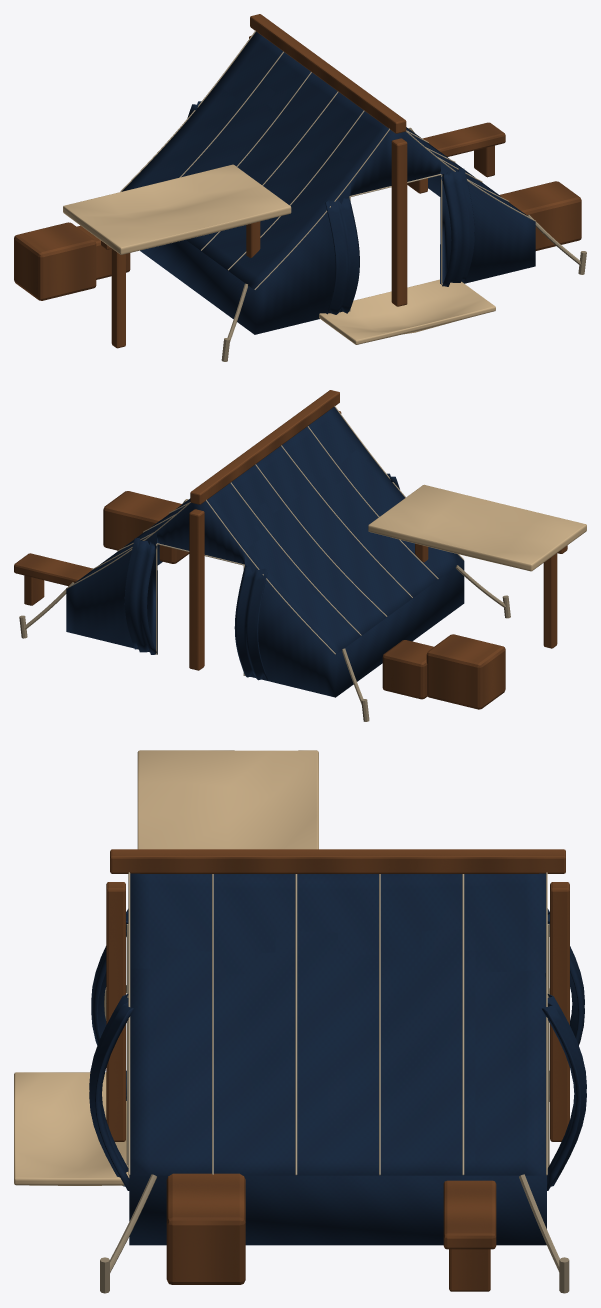
File: CampCloth87.glb
3 views of the same model, one above another, from view 1: azimuth 30°, elevation 25°; view 2: azimuth 150°, elevation 25°; view 3: azimuth 270°, elevation 25° (orthographic). The views are drawn at different scales.
Parts seen in each view (by area): view 1: Camp87 sculpted canvas, Camp87 Camp_Awning, Camp87 Camp_Supplies, Camp87 Camp_Activity, Camp87 Camp_Timber, Camp87 seams and guys; view 2: Camp87 sculpted canvas, Camp87 Camp_Awning, Camp87 Camp_Supplies, Camp87 Camp_Timber, Camp87 seams and guys, Camp87 Camp_Activity; view 3: Camp87 sculpted canvas, Camp87 Camp_Timber, Camp87 Camp_Awning, Camp87 Camp_Activity, Camp87 Camp_Supplies, Camp87 seams and guys.
Part boxes in pixels (x1,y1,x2,y2): Camp87 sculpted canvas: (122, 31, 535, 334); Camp87 Camp_Awning: (63, 164, 291, 348); Camp87 Camp_Supplies: (14, 181, 581, 300); Camp87 Camp_Activity: (319, 122, 505, 344); Camp87 Camp_Timber: (249, 14, 407, 306); Camp87 seams and guys: (120, 30, 586, 361); Camp87 sculpted canvas: (66, 407, 464, 697); Camp87 Camp_Awning: (368, 484, 586, 648); Camp87 Camp_Supplies: (103, 491, 505, 709); Camp87 Camp_Timber: (189, 390, 341, 670); Camp87 seams and guys: (19, 406, 510, 721); Camp87 Camp_Activity: (14, 553, 92, 605); Camp87 sculpted canvas: (89, 873, 586, 1245); Camp87 Camp_Timber: (106, 849, 569, 1141); Camp87 Camp_Awning: (137, 750, 318, 849); Camp87 Camp_Activity: (14, 1072, 496, 1291); Camp87 Camp_Supplies: (166, 1173, 245, 1284); Camp87 seams and guys: (100, 872, 569, 1293).
Size of the model in its own units: 7.92 by 3.12 by 5.22.
8 materials, 5 textured.
